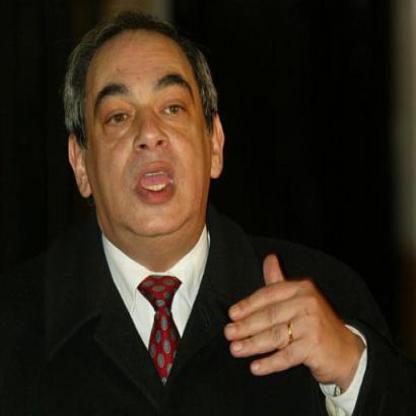face: (82, 22, 214, 242)
